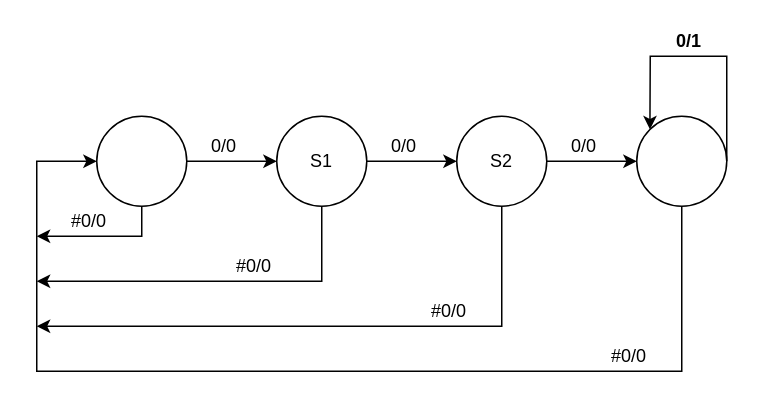
This 765x410 diagram has some shape labels left out. Here are the shapes that lost their labels. From the top down, the centre of each, then its label:
point 141,160: S0
point 681,160: S3
